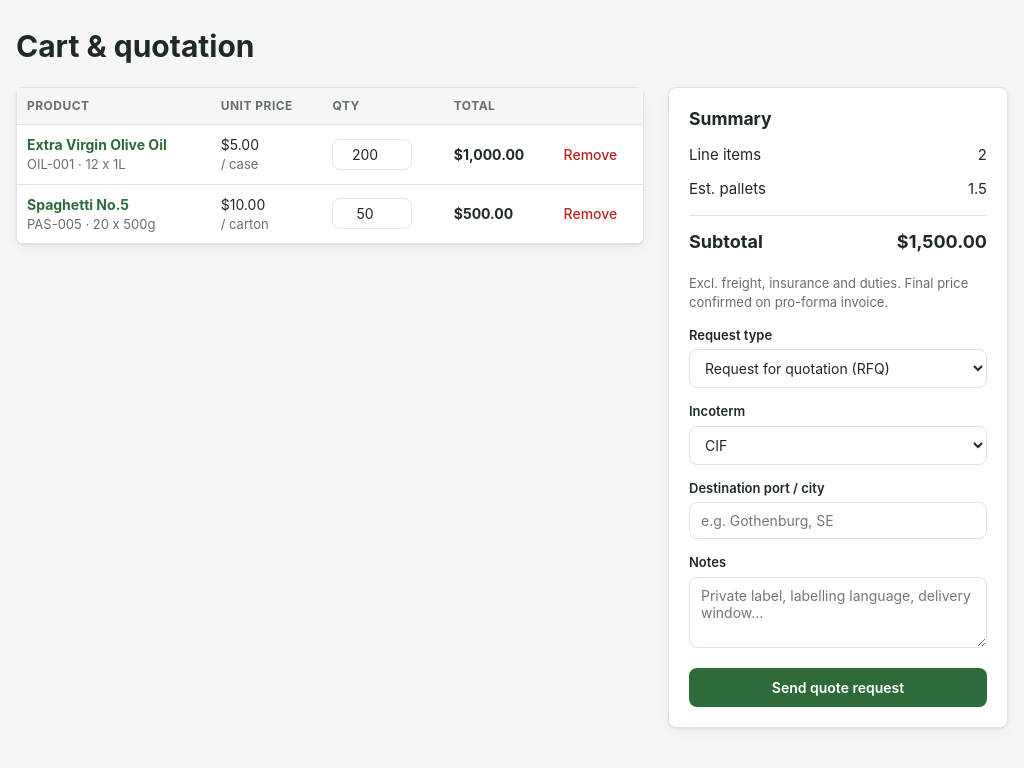
Test: Cart page › editing the cart › removes a line and persists the change to b2b_cart
Click the button "Remove" in the row of "Spaghetti No.5".
click(590, 214)  # box top-left (564, 205), bottom-right (617, 222)
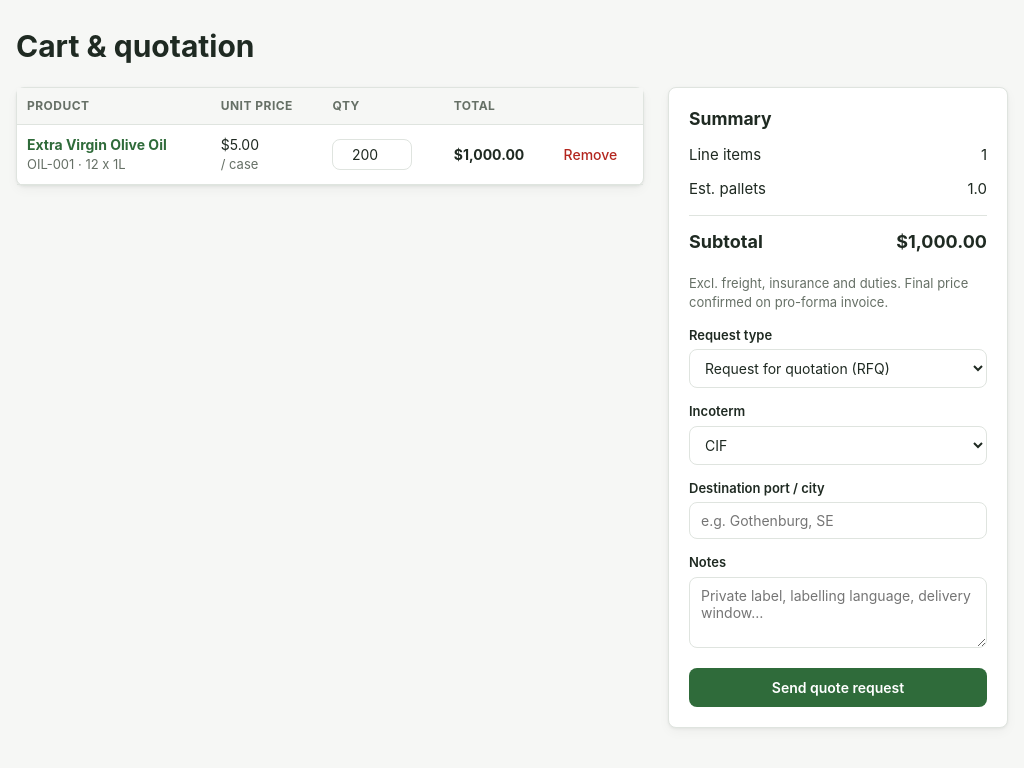
Now the link "Spaghetti No.5" is gone
Now the text "1" is shown, box top-left (981, 144), bottom-right (987, 166)
Now the text "$1,000.00" next to "Subtotal" is shown, box top-left (896, 231), bottom-right (987, 252)
